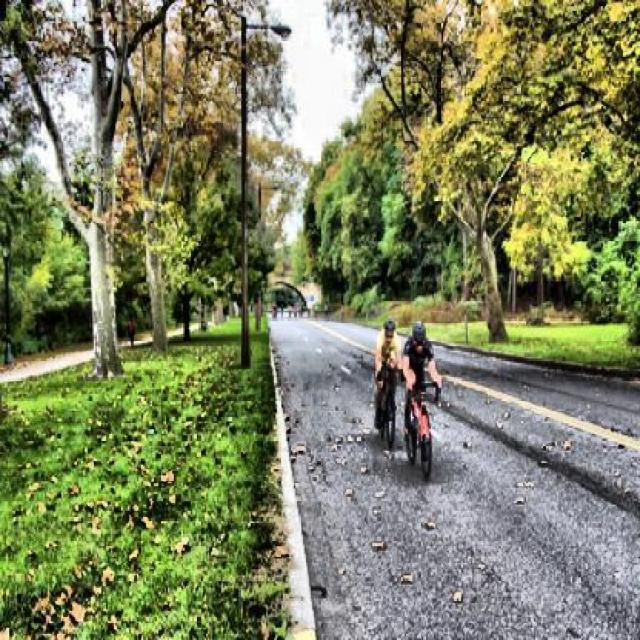bikerider: (394, 309, 446, 489), (366, 300, 399, 458)
